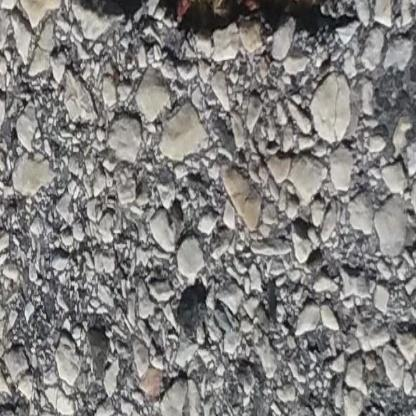Cracks: (30, 0, 361, 41)
